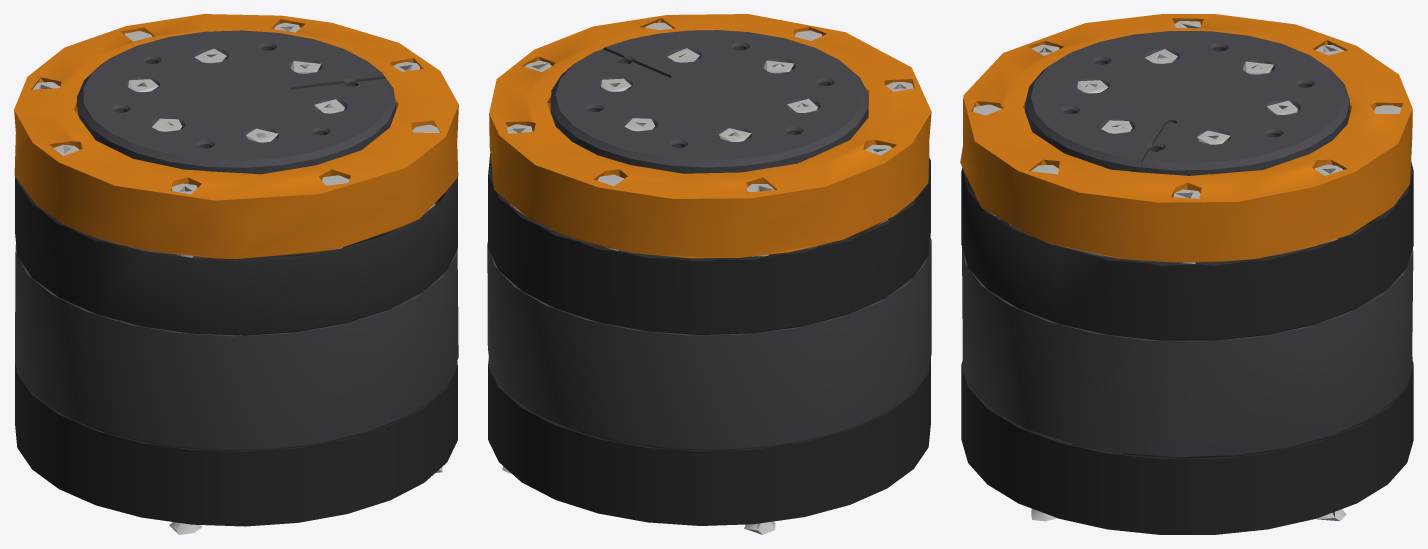
3 views of the same model, side by side, from view 1: azimuth 30°, elevation 25°; view 2: azimuth 150°, elevation 25°; view 3: azimuth 270°, elevation 25° (orthographic).
Visible parts, largest first — view 1: link6; view 2: link6; view 3: link6.
Boxes of the visible parts, x1,y1,x2,y2 form: link6: (14, 14, 458, 534); link6: (487, 14, 931, 534); link6: (960, 14, 1413, 534).
Bounding box in the file's own units: 0.0799 × 0.0802 × 0.0705.
